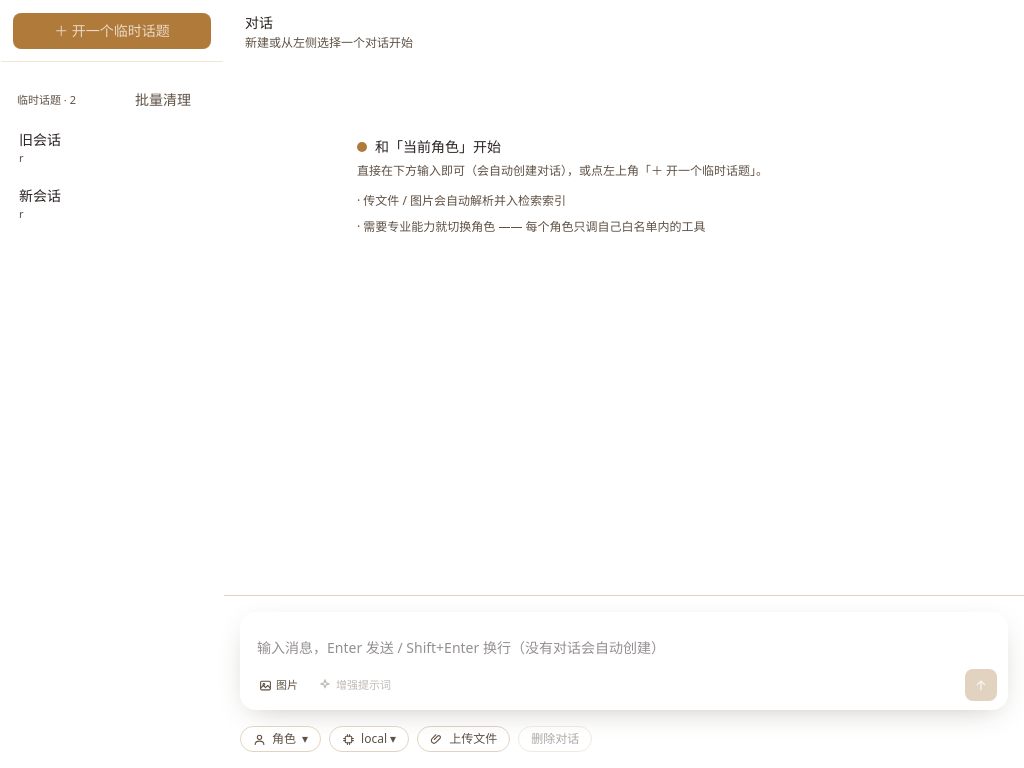
Scenario: ChatPage 快速切会话的竞态守卫（2026-10-30 批次的回归钉） › 慢到的旧会话历史不许盖到新会话头上（历史/模型/折叠计数整包作废）
Click the text "旧会话". click: (40, 140)
box: [19,130,61,149]
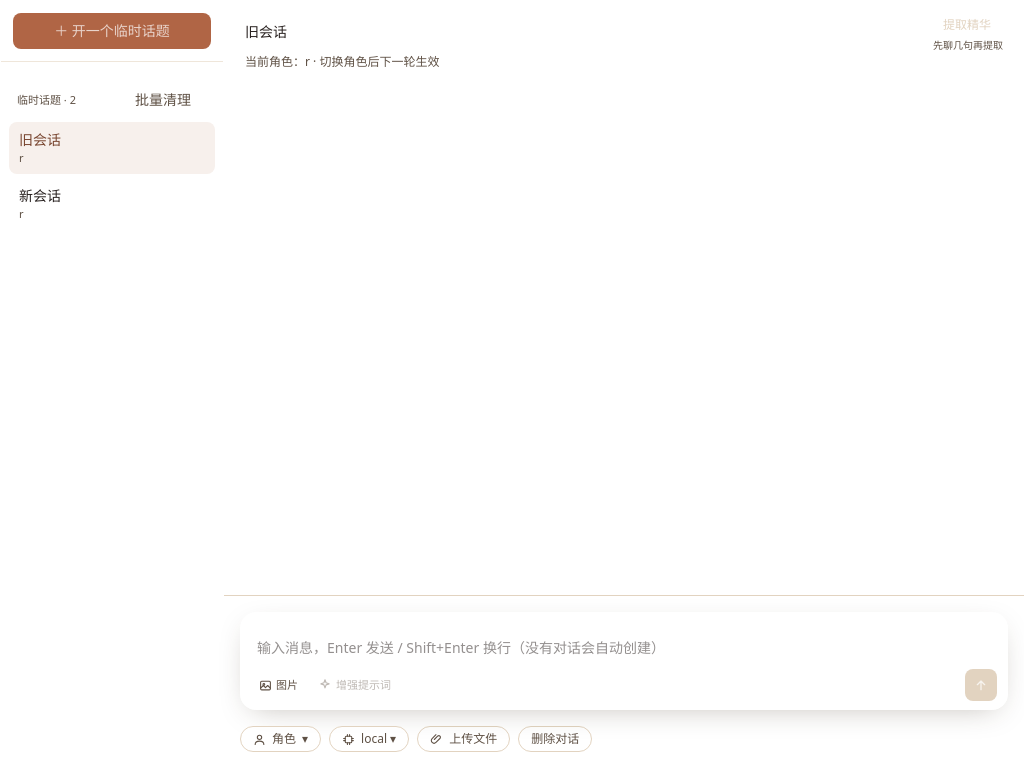
Click the text "新会话". click: (40, 195)
box: [19,186,61,205]
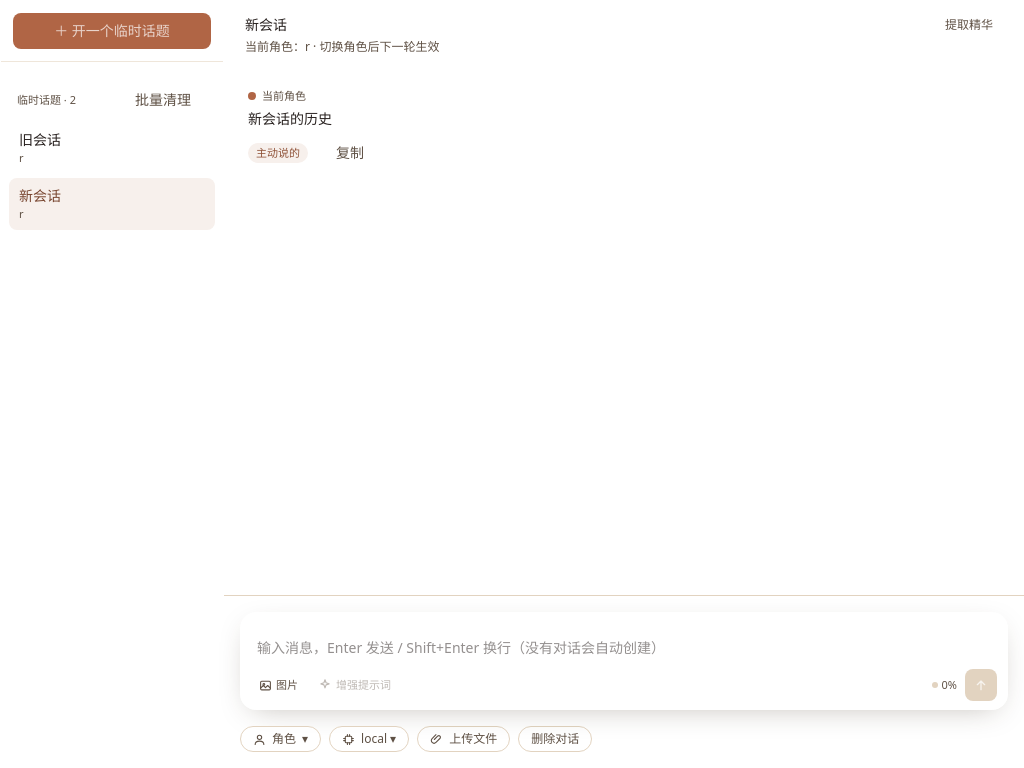
Expected: the text "新会话的历史" is shown, [248,109,332,128]
